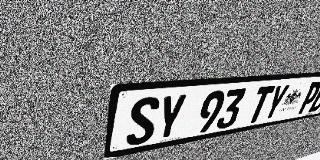3: (215, 88, 247, 130)
9: (194, 90, 227, 134)
B: (308, 80, 320, 112)
P: (296, 81, 320, 114)
S: (125, 96, 161, 147)
T: (245, 85, 276, 124)
Y: (153, 93, 188, 142), (261, 84, 291, 121)
